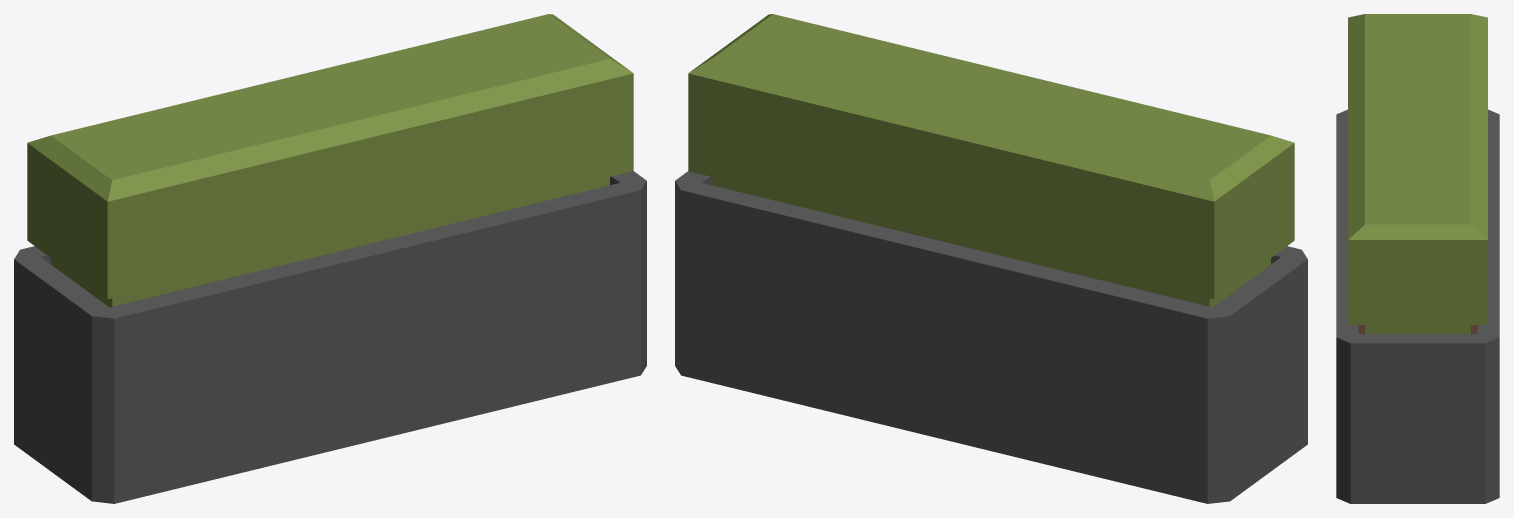
Rendered from FlowerBed_01.fbx.
The picture shows the model from 3 angles, left to right: view 1: azimuth 30°, elevation 25°; view 2: azimuth 150°, elevation 25°; view 3: azimuth 270°, elevation 25°; orthographic projection. The views are drawn at different scales.
Visible parts, largest first — view 1: FlowerBed_01; view 2: FlowerBed_01; view 3: FlowerBed_01.
Part boxes in pixels (box(x1,y1,x2,y2)): FlowerBed_01: box(14, 14, 646, 503); FlowerBed_01: box(675, 14, 1307, 503); FlowerBed_01: box(1336, 14, 1499, 503).
Size of the model in its own units: 200 by 106 by 58.82.
